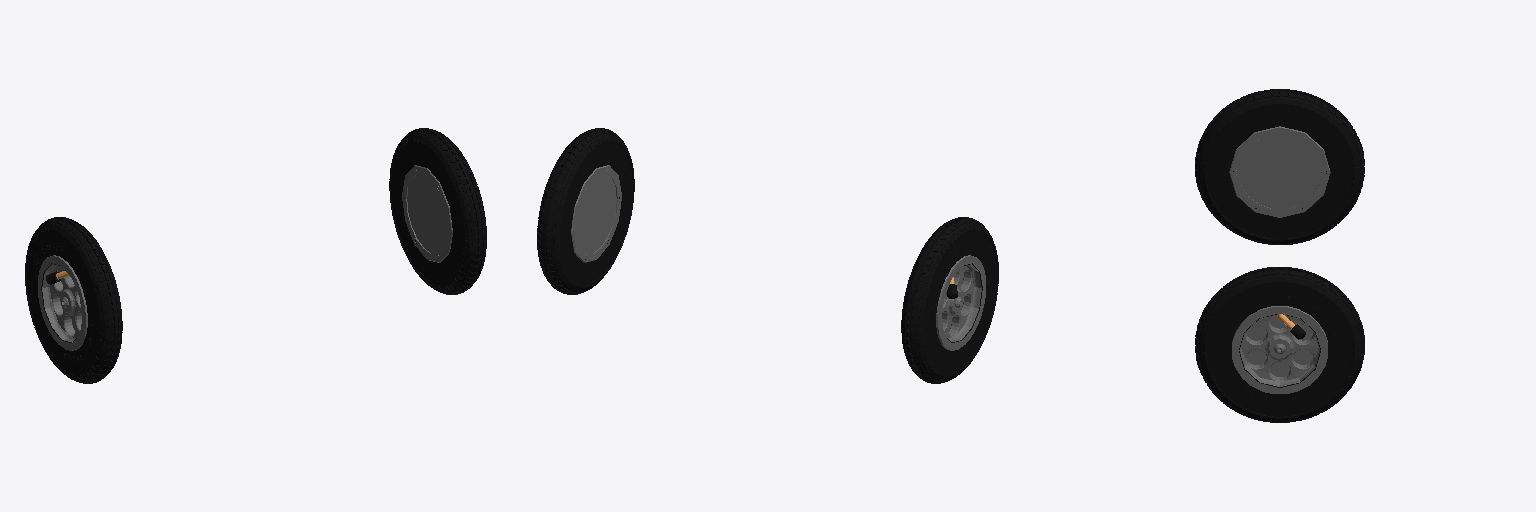
File: Tires.obj
3 renders of one model, left to right at view 1: azimuth 30°, elevation 25°; view 2: azimuth 150°, elevation 25°; view 3: azimuth 270°, elevation 25°, orthographic.
Visible parts, largest first — view 1: Tires; view 2: Tires; view 3: Tires.
Boxes of the visible parts, x1,y1,x2,y2 form: Tires: [25, 128, 486, 383]; Tires: [537, 128, 998, 383]; Tires: [1195, 89, 1364, 422].
Size of the model in its own units: 17.03 by 6.3 by 6.3.